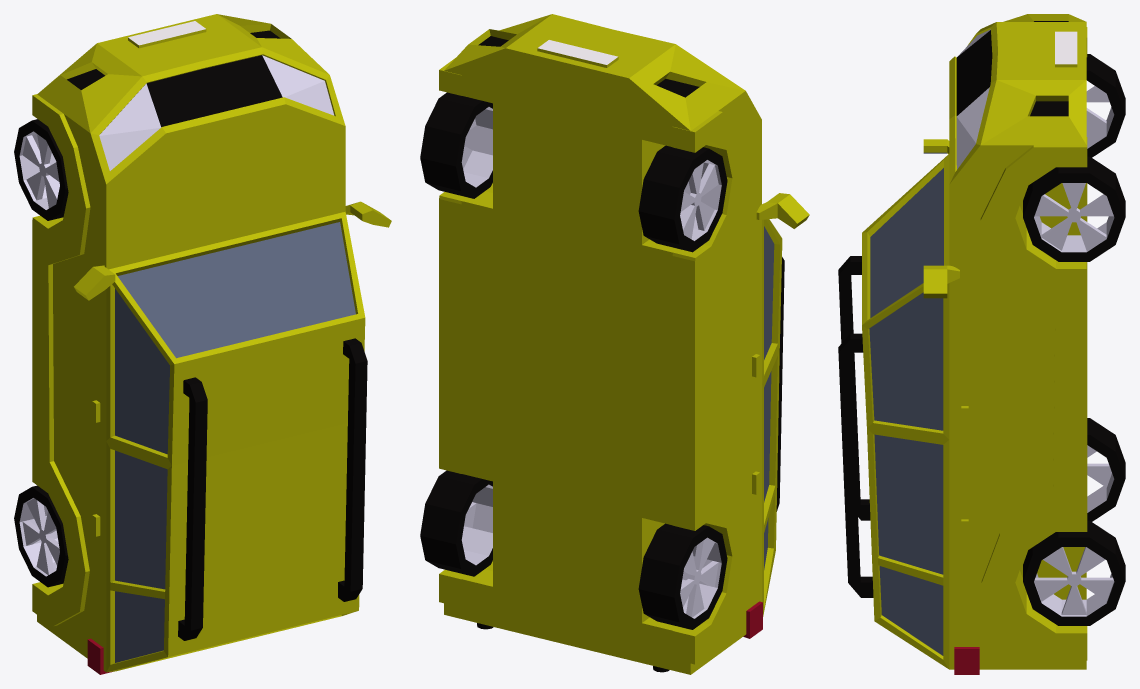
Rendered from SUV.glb.
The picture shows the model from 3 angles, left to right: view 1: azimuth 30°, elevation 25°; view 2: azimuth 150°, elevation 25°; view 3: azimuth 270°, elevation 25°; orthographic projection. The views are drawn at different scales.
Visible parts, largest first — view 1: SUV_body_dark_purple_0, SUV_windows_0, SUV_body_black_0, SUV_headlights_0, SUV_wheel_front_left, SUV_wheel_rear_left, SUV_body_white_0; view 2: SUV_body_dark_purple_0, SUV_wheel_front_left, SUV_wheel_rear_left, SUV_wheel_front_right, SUV_wheel_rear_right, SUV_windows_0, SUV_body_black_0, SUV_body_white_0; view 3: SUV_body_dark_purple_0, SUV_windows_0, SUV_body_black_0, SUV_wheel_front_right, SUV_wheel_rear_right, SUV_wheel_front_left, SUV_wheel_rear_left, SUV_headlights_0, SUV_body_white_0, SUV_rear_lights_0.
Boxes of the visible parts, x1=… form: SUV_body_dark_purple_0: x1=32, y1=14, x2=391, y2=672; SUV_windows_0: x1=115, y1=222, x2=355, y2=662; SUV_body_black_0: x1=67, y1=30, x2=367, y2=640; SUV_headlights_0: x1=99, y1=55, x2=334, y2=170; SUV_wheel_front_left: x1=14, y1=119, x2=68, y2=220; SUV_wheel_rear_left: x1=14, y1=485, x2=68, y2=587; SUV_body_white_0: x1=128, y1=21, x2=205, y2=45; SUV_body_dark_purple_0: x1=439, y1=14, x2=809, y2=674; SUV_wheel_front_left: x1=638, y1=145, x2=727, y2=252; SUV_wheel_rear_left: x1=638, y1=523, x2=727, y2=629; SUV_wheel_front_right: x1=420, y1=92, x2=492, y2=198; SUV_wheel_rear_right: x1=420, y1=470, x2=492, y2=576; SUV_windows_0: x1=764, y1=226, x2=774, y2=569; SUV_body_black_0: x1=477, y1=36, x2=784, y2=672; SUV_body_white_0: x1=538, y1=40, x2=617, y2=64; SUV_body_dark_purple_0: x1=862, y1=14, x2=1087, y2=669; SUV_windows_0: x1=869, y1=152, x2=947, y2=655; SUV_body_black_0: x1=838, y1=21, x2=1068, y2=597; SUV_wheel_front_right: x1=1023, y1=156, x2=1125, y2=261; SUV_wheel_rear_right: x1=1023, y1=520, x2=1125, y2=625; SUV_wheel_front_left: x1=1086, y1=54, x2=1125, y2=157; SUV_wheel_rear_left: x1=1087, y1=418, x2=1125, y2=521; SUV_headlights_0: x1=956, y1=29, x2=990, y2=169; SUV_body_white_0: x1=1055, y1=31, x2=1077, y2=64; SUV_rear_lights_0: x1=954, y1=647, x2=979, y2=674.
Size of the model in its own units: 2.81 by 5.04 by 2.3.
